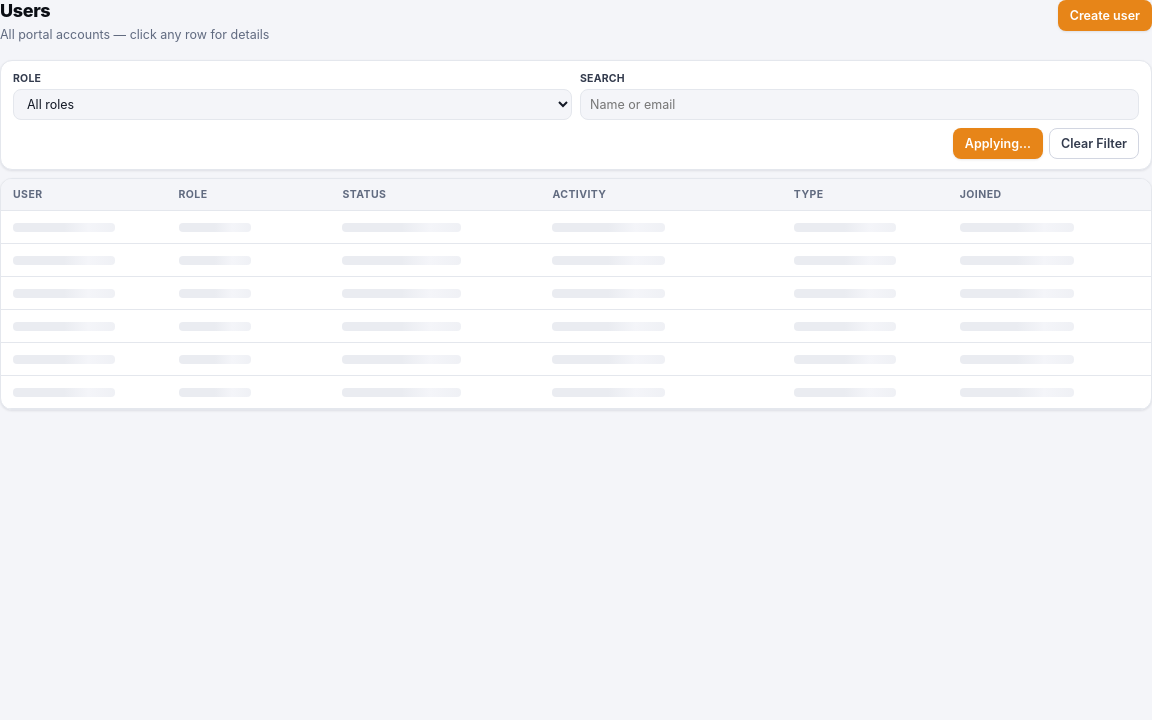
Test: AdminUsers › the create form › refuses to submit while the two passwords disagree
The image size is (1152, 720).
Step 1. Click the button "Create user" → [1105, 16], box [1058,0,1151,31]
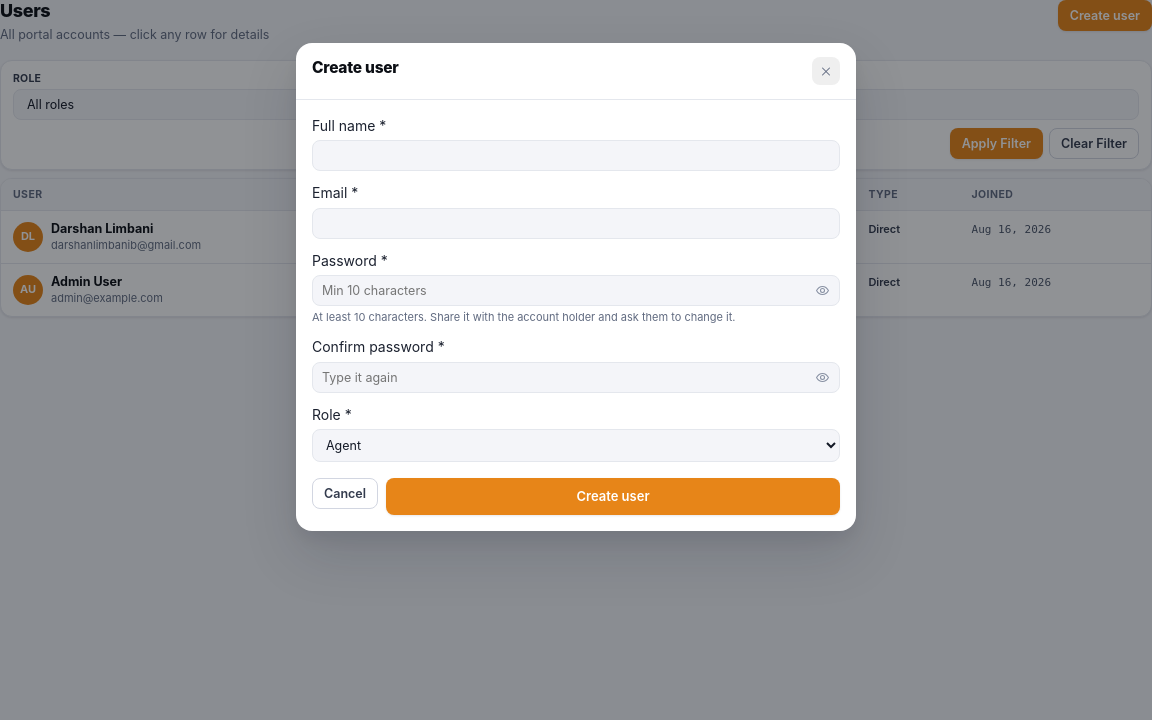
Now the field labelled "Full name *" is shown, box [312,140,840,172]
Step 2. Type "correct-horse-battery" into the password field labelled "Password *" → [576, 291], box [312,275,840,306]
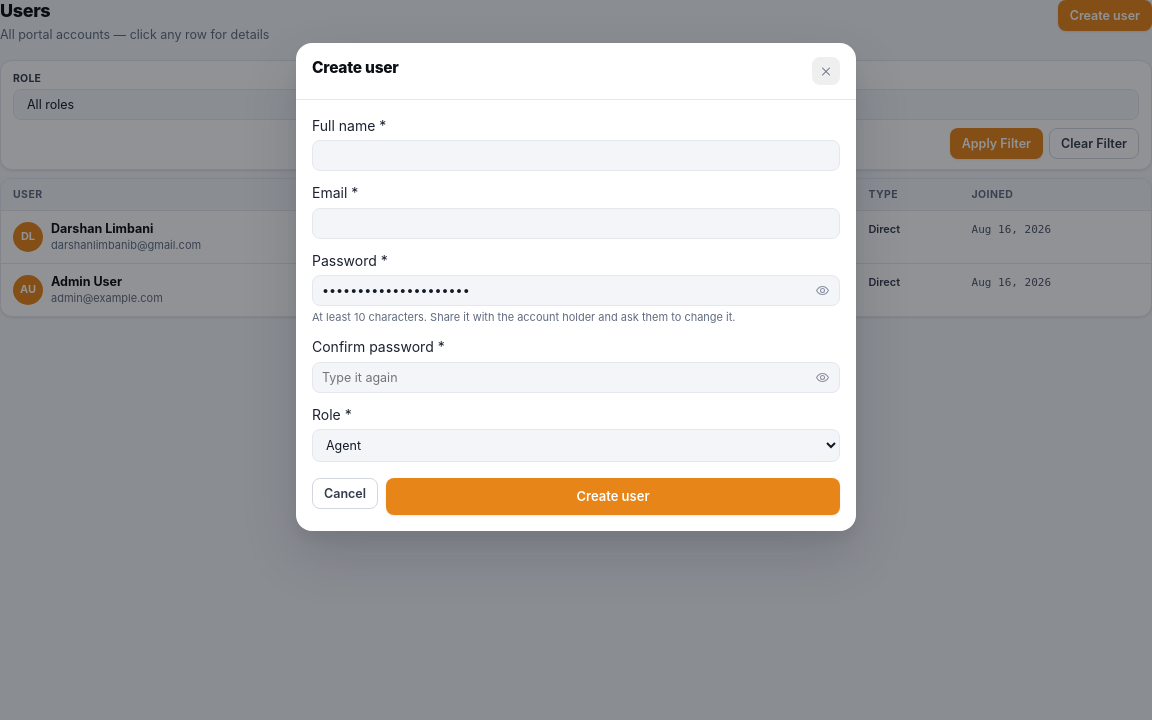
Step 3. Type "correct-horse-batteru" into the password field labelled "Confirm password *" → [576, 377], box [312,362,840,393]
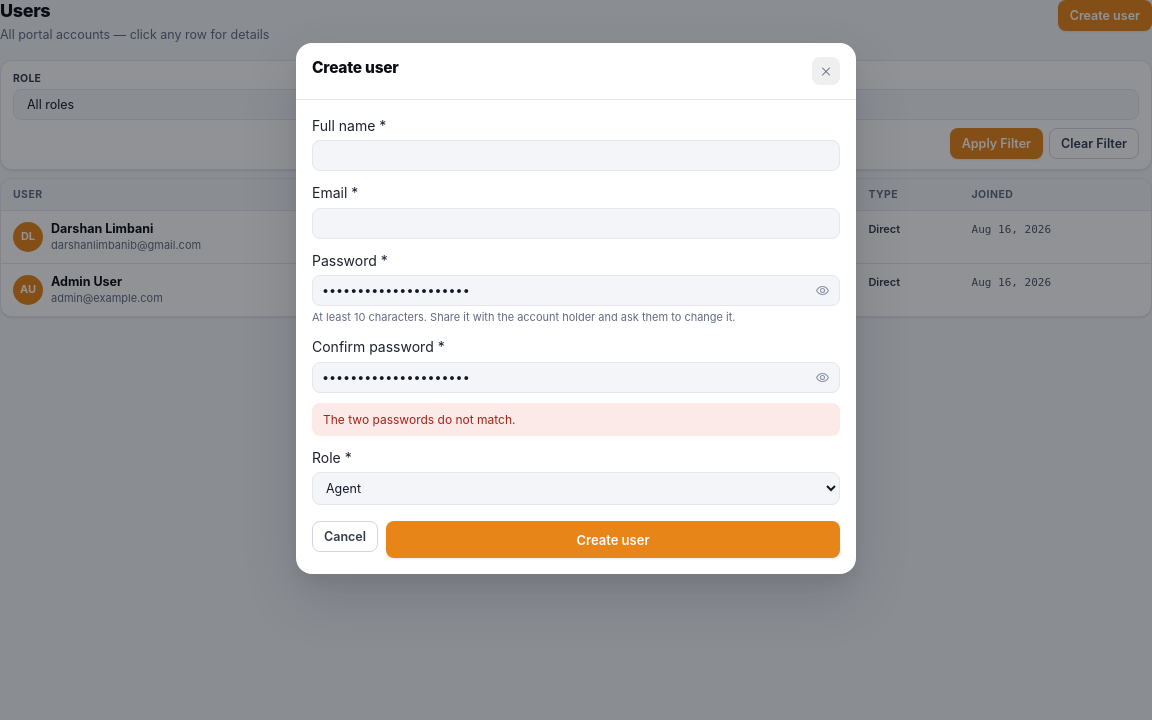
Now the text "The two passwords do not match." is shown, box [312,403,840,436]
Now the button "Create user" is disabled, box [386,522,840,558]
